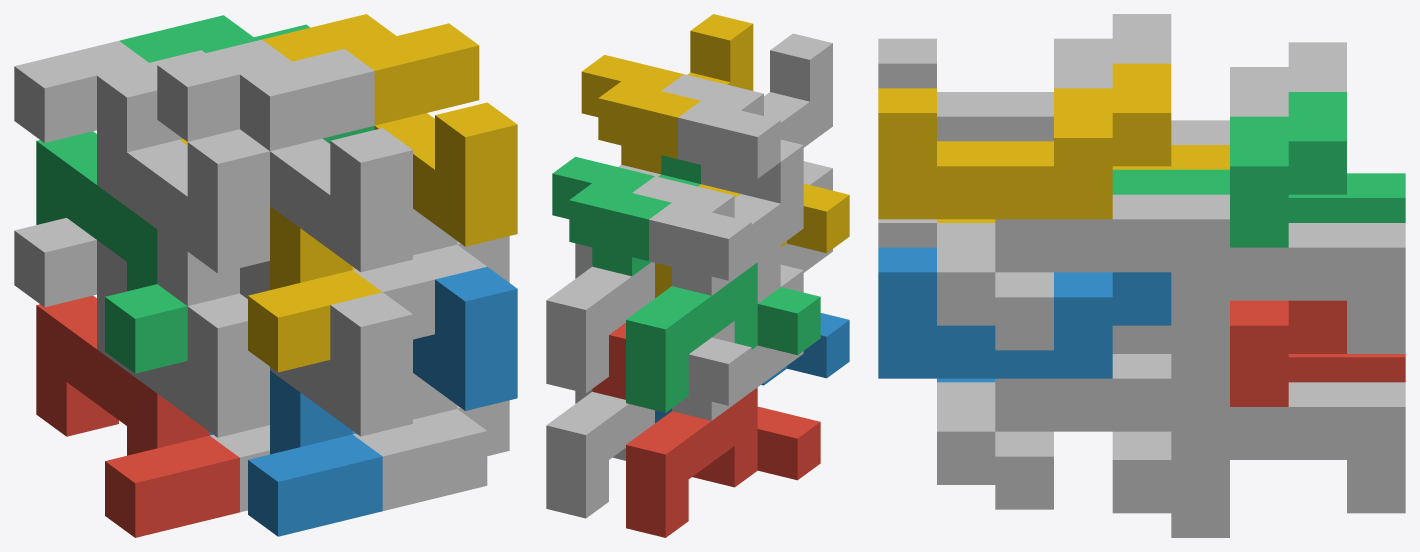
Rendered from tiling.obj.
3 renders of one model, left to right at view 1: azimuth 30°, elevation 25°; view 2: azimuth 150°, elevation 25°; view 3: azimuth 270°, elevation 25°, orthographic. The views are drawn at different scales.
Visible parts, largest first — view 1: copy_2_domain_4, copy_2_domain_3, copy_2_domain_8, copy_1_domain_1, copy_2_domain_1, copy_2_domain_2, copy_1_domain_3, copy_1_domain_2, copy_2_domain_6, copy_1_domain_4, copy_1_domain_6, copy_1_domain_8 (+2 smaller); view 2: copy_1_domain_1, copy_2_domain_4, copy_2_domain_3, copy_1_domain_3, copy_2_domain_8, copy_2_domain_7, copy_1_domain_7, copy_1_domain_5, copy_2_domain_1, copy_1_domain_4, copy_2_domain_2, copy_1_domain_2 (+2 smaller); view 3: copy_2_domain_8, copy_1_domain_8, copy_1_domain_6, copy_1_domain_5, copy_2_domain_6, copy_1_domain_7, copy_2_domain_7, copy_2_domain_4, copy_2_domain_5, copy_2_domain_3, copy_1_domain_3, copy_1_domain_1 (+2 smaller).
Part boxes in pixels (<box>): copy_2_domain_4: <box>157,39,412,272</box>; copy_2_domain_3: <box>14,41,269,273</box>; copy_2_domain_8: <box>262,14,517,246</box>; copy_1_domain_1: <box>36,295,239,537</box>; copy_2_domain_1: <box>14,218,269,437</box>; copy_2_domain_2: <box>157,229,412,436</box>; copy_1_domain_3: <box>36,131,187,373</box>; copy_1_domain_2: <box>209,370,382,536</box>; copy_2_domain_6: <box>413,266,517,410</box>; copy_1_domain_4: <box>180,139,382,372</box>; copy_1_domain_6: <box>353,373,509,510</box>; copy_1_domain_8: <box>353,209,509,339</box>; copy_1_domain_1: <box>626,387,820,537</box>; copy_2_domain_4: <box>662,33,832,193</box>; copy_2_domain_3: <box>632,139,803,295</box>; copy_1_domain_3: <box>626,262,820,412</box>; copy_2_domain_8: <box>581,14,753,174</box>; copy_2_domain_7: <box>552,155,700,276</box>; copy_1_domain_7: <box>546,262,654,393</box>; copy_1_domain_5: <box>546,391,654,518</box>; copy_2_domain_1: <box>672,264,803,420</box>; copy_1_domain_4: <box>655,183,849,297</box>; copy_2_domain_2: <box>757,161,832,303</box>; copy_1_domain_2: <box>655,313,849,423</box>; copy_2_domain_8: <box>878,63,1171,219</box>; copy_1_domain_8: <box>937,194,1229,350</box>; copy_1_domain_6: <box>937,354,1229,509</box>; copy_1_domain_5: <box>1112,382,1405,537</box>; copy_2_domain_6: <box>878,247,1171,378</box>; copy_1_domain_7: <box>1112,223,1405,378</box>; copy_2_domain_7: <box>1112,92,1346,247</box>; copy_2_domain_4: <box>878,14,1171,141</box>; copy_2_domain_5: <box>1230,300,1346,406</box>; copy_2_domain_3: <box>1171,42,1346,144</box>; copy_1_domain_3: <box>1288,173,1405,222</box>; copy_1_domain_1: <box>1288,354,1405,382</box>.
Size of the model in its own units: 6 by 8 by 9.
